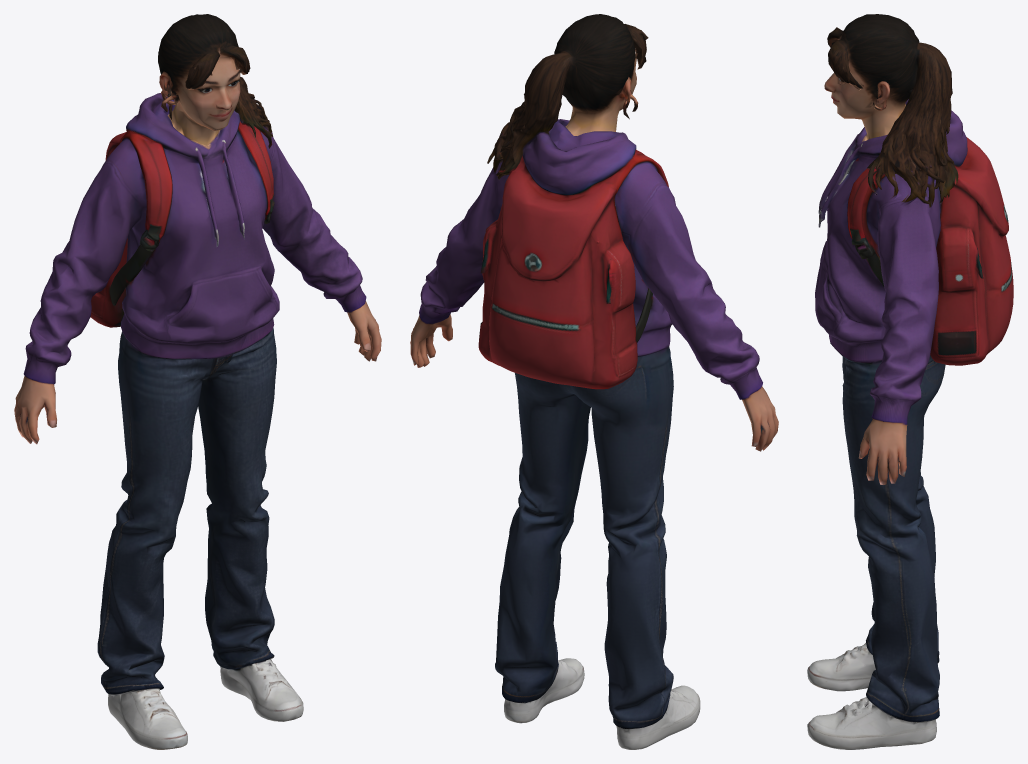
The model's file is natalia.glb.
The picture shows the model from 3 angles, left to right: view 1: azimuth 30°, elevation 25°; view 2: azimuth 150°, elevation 25°; view 3: azimuth 270°, elevation 25°; orthographic projection.
Parts seen in each view (by area): view 1: tripo_node_0a8b8e27-c73b-491a-86bf-8a5b36110a64; view 2: tripo_node_0a8b8e27-c73b-491a-86bf-8a5b36110a64; view 3: tripo_node_0a8b8e27-c73b-491a-86bf-8a5b36110a64.
Part boxes in pixels (x1,y1,x2,y2): tripo_node_0a8b8e27-c73b-491a-86bf-8a5b36110a64: (14,14,381,749); tripo_node_0a8b8e27-c73b-491a-86bf-8a5b36110a64: (410,14,778,749); tripo_node_0a8b8e27-c73b-491a-86bf-8a5b36110a64: (807,14,1013,749).
Bounding box in the file's own units: 0.9426 × 1.75 × 0.4715.
1 material, 1 textured.
